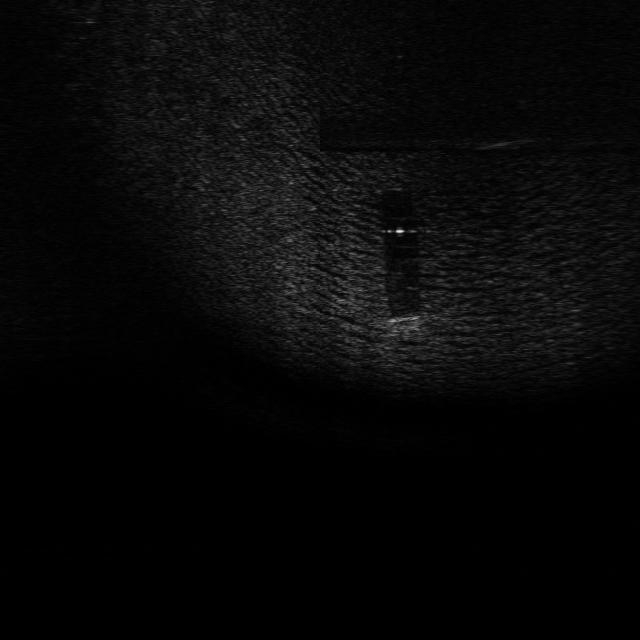cube: (382, 313, 426, 342)
